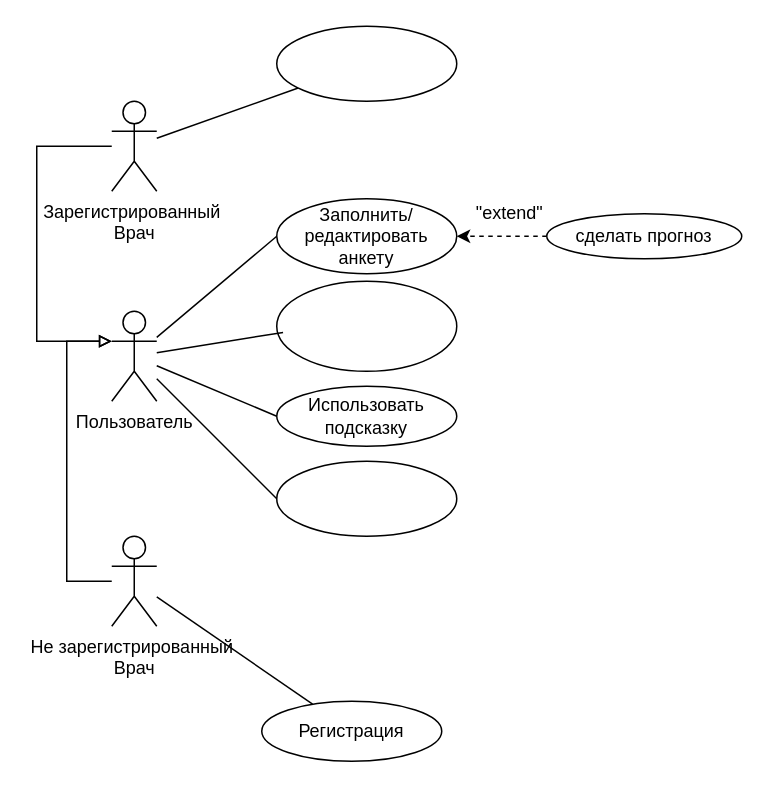
Some shapes in this 768 by 788 pixel diagram are drawn without their labels. The shapes that lost their labels are listed below. From the top down, each one's box as (x1, y1, x2, y2) in pixels, then its label:
(275, 25, 457, 101): Отправить данные в систему
(275, 280, 457, 371): Просмотреть заполненные анкеты
(275, 460, 457, 536): Обновить алгоритм прогнозирования
